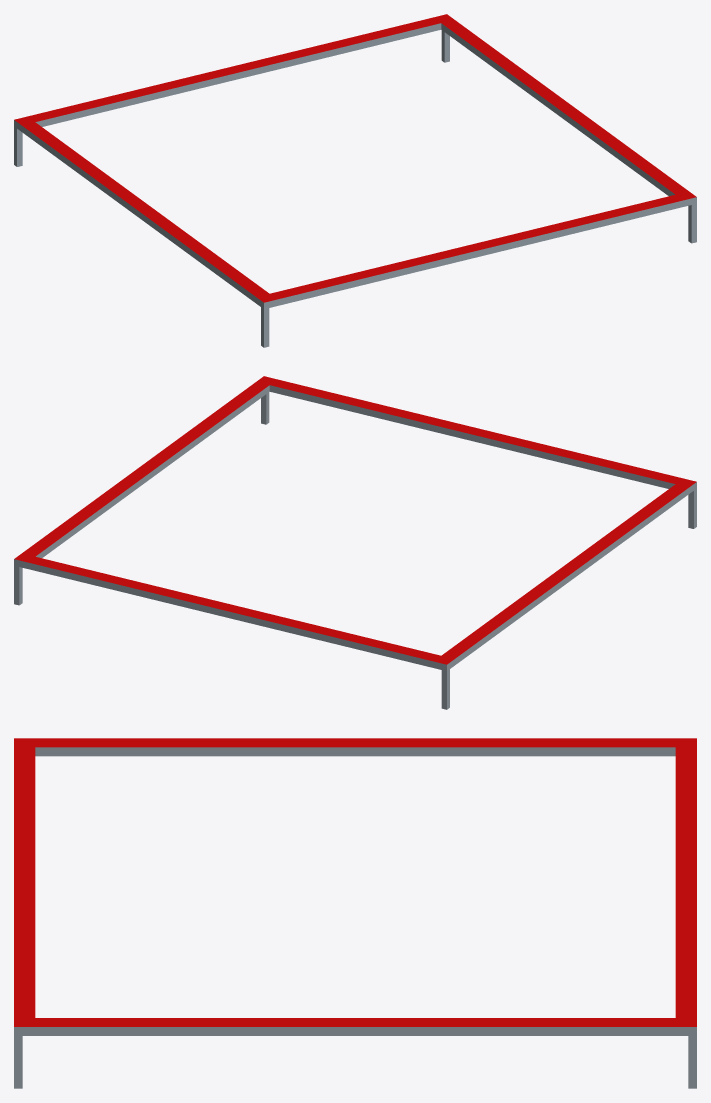
Rendered from unpacked.gltf.
3 renders of one model, top to bottom at view 1: azimuth 30°, elevation 25°; view 2: azimuth 150°, elevation 25°; view 3: azimuth 270°, elevation 25°, orthographic. The views are drawn at different scales.
Visible parts, largest first — view 1: Root Node; view 2: Root Node; view 3: Root Node.
Part boxes in pixels (x1,y1,x2,y2): Root Node: (14, 14, 696, 347); Root Node: (14, 376, 696, 709); Root Node: (14, 738, 696, 1088).
Bounding box in the file's own units: 8 × 0.7963 × 8.
